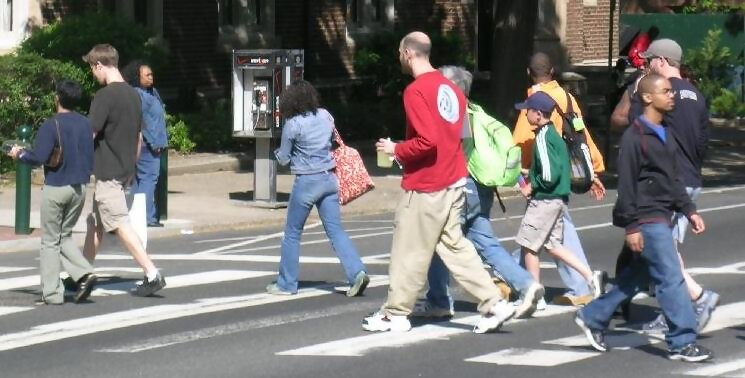person: (356, 33, 516, 336), (581, 68, 715, 370), (72, 43, 172, 296), (268, 71, 376, 301), (508, 85, 610, 322), (12, 77, 80, 297)
